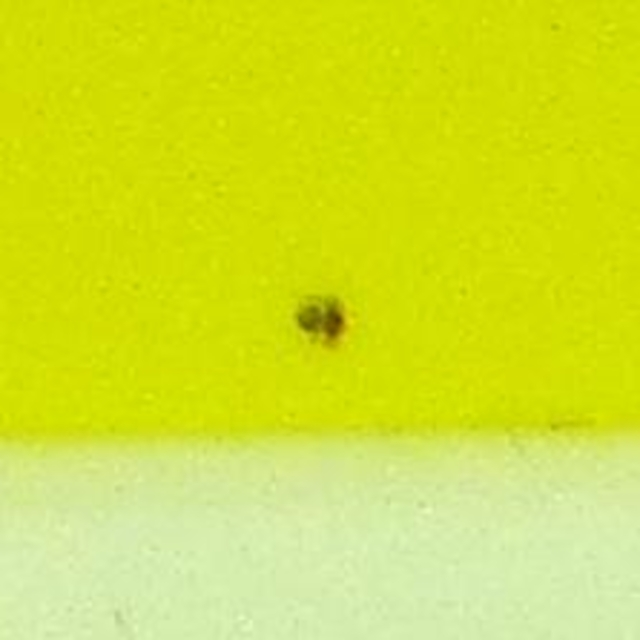Araneae: (287, 287, 353, 353)
